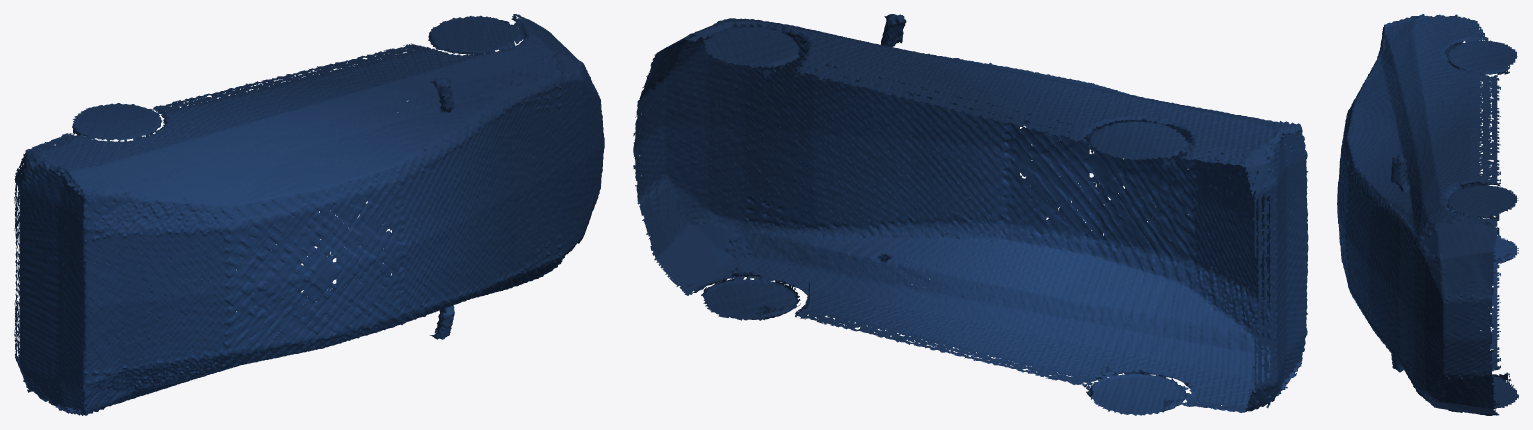
Rendered from tsdf_mesh.obj.
3 renders of one model, left to right at view 1: azimuth 30°, elevation 25°; view 2: azimuth 150°, elevation 25°; view 3: azimuth 270°, elevation 25°, orthographic. The views are drawn at different scales.
Size of the model in its own units: 4.61 by 2 by 1.52.
